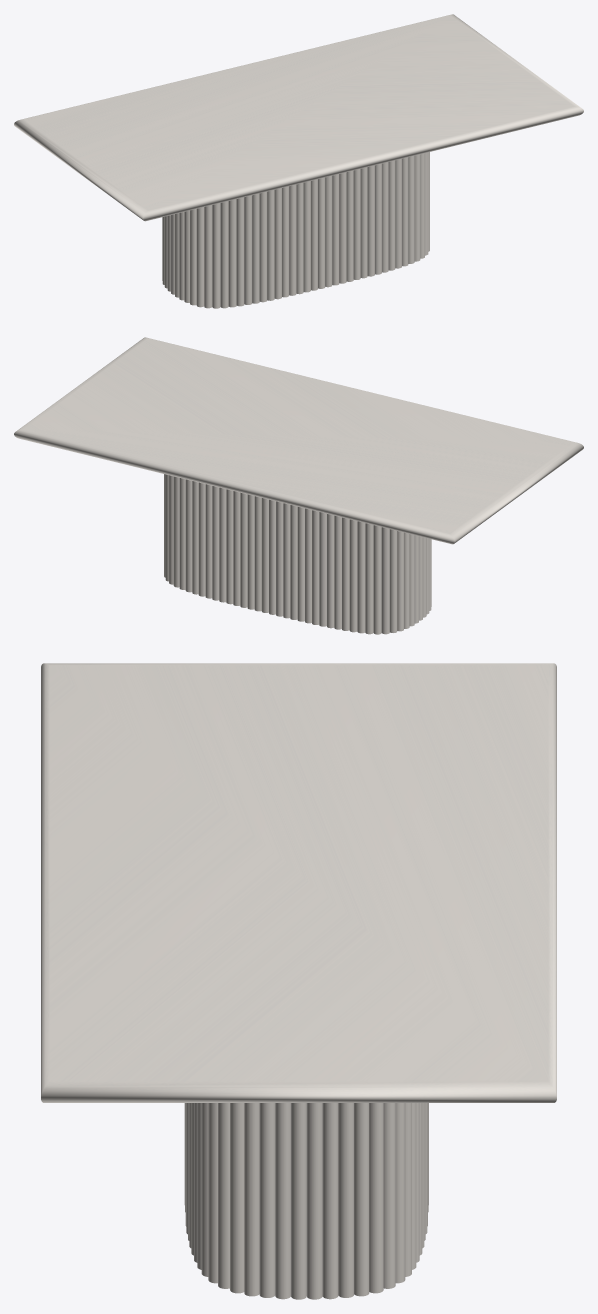
Rendered from pearlwhite_recta_round_newtable.glb.
The picture shows the model from 3 angles, top to bottom: view 1: azimuth 30°, elevation 25°; view 2: azimuth 150°, elevation 25°; view 3: azimuth 270°, elevation 25°; orthographic projection. The views are drawn at different scales.
Parts seen in each view (by area): view 1: round_recta, newtable; view 2: round_recta, newtable; view 3: round_recta, newtable.
Boxes of the visible parts, x1,y1,x2,y2 form: round_recta: (14,14,583,221); newtable: (162,152,429,308); round_recta: (14,337,583,544); newtable: (164,474,431,634); round_recta: (41,663,556,1102); newtable: (184,1103,428,1299).
Size of the model in its own units: 7.5 by 2.5 by 3.8.
2 materials, 2 textured.
